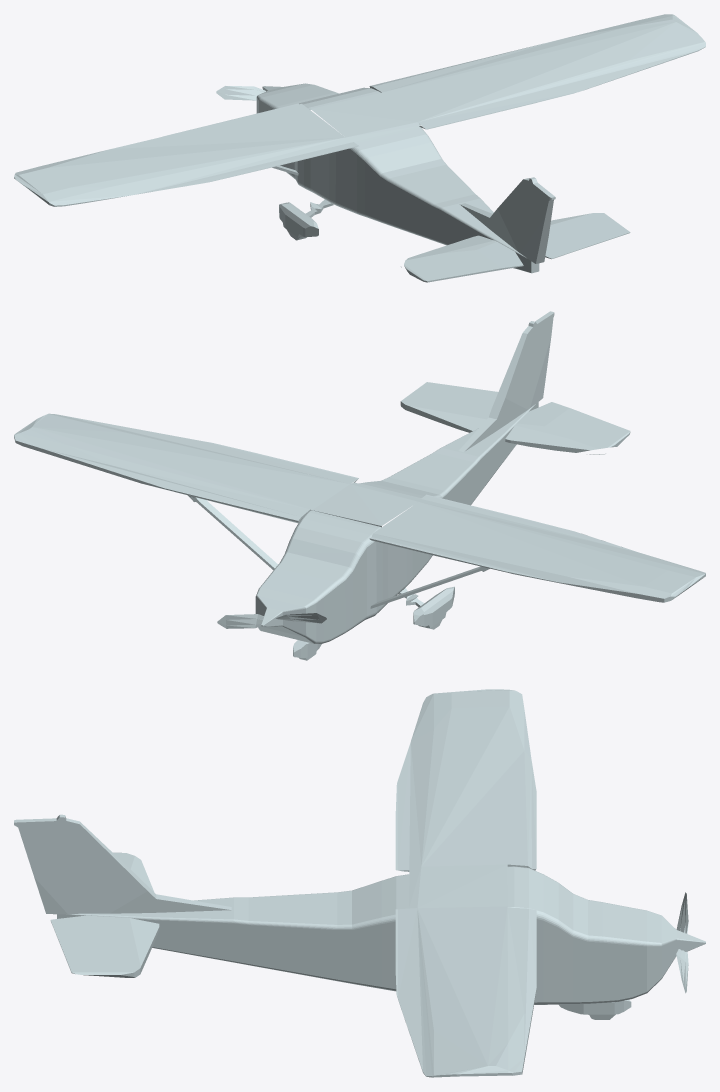
3 renders of one model, top to bottom at view 1: azimuth 30°, elevation 25°; view 2: azimuth 150°, elevation 25°; view 3: azimuth 270°, elevation 25°, orthographic. The views are drawn at different scales.
Visible parts, largest first — view 1: Aircraft visual hull, Rotors; view 2: Aircraft visual hull, Rotors; view 3: Aircraft visual hull, Rotors.
Part boxes in pixels (<box>): Aircraft visual hull: <box>14,14,705,282</box>; Rotors: <box>216,85,265,100</box>; Aircraft visual hull: <box>14,311,705,660</box>; Rotors: <box>217,613,326,628</box>; Aircraft visual hull: <box>14,689,705,1077</box>; Rotors: <box>676,892,688,993</box>.
Bounding box in the file's own units: 10.98 × 2.71 × 8.34.
